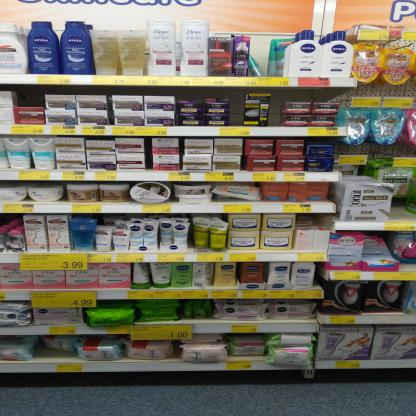Void: (180, 88, 227, 98), (35, 351, 77, 362), (16, 88, 40, 107), (288, 91, 330, 101), (300, 216, 328, 228), (391, 210, 413, 223)
